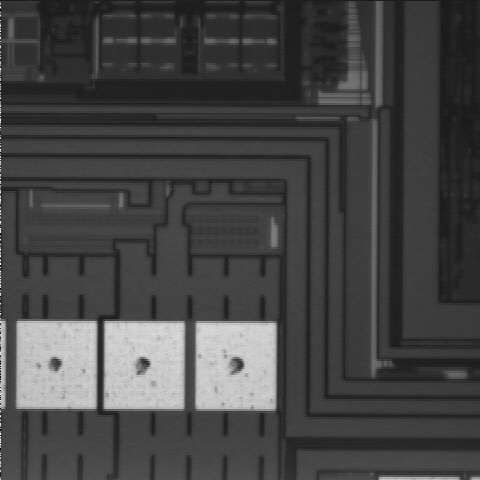pad: (17, 321, 96, 409), (196, 323, 276, 409), (105, 323, 184, 409)
